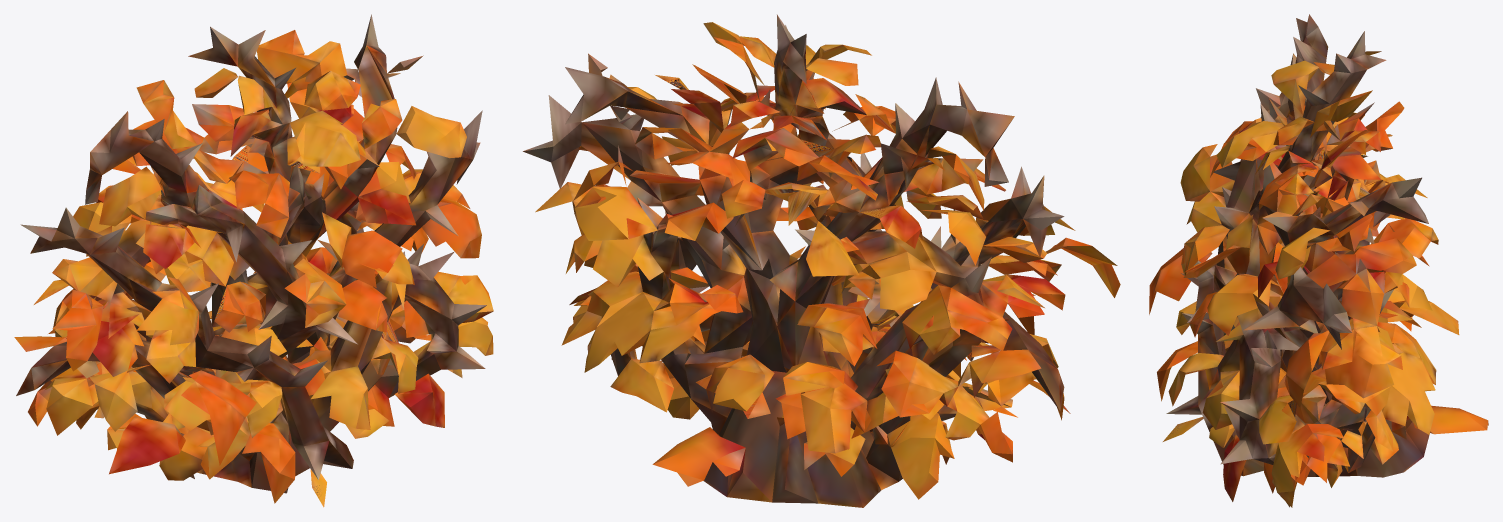
Rendered from thorn-bush.low.glb.
3 views of the same model, side by side, from view 1: azimuth 30°, elevation 25°; view 2: azimuth 150°, elevation 25°; view 3: azimuth 270°, elevation 25° (orthographic). The views are drawn at different scales.
Visible parts, largest first — view 1: output_unwrapped; view 2: output_unwrapped; view 3: output_unwrapped.
Part boxes in pixels (x1=…): output_unwrapped: x1=14, y1=14, x2=493, y2=507; output_unwrapped: x1=523, y1=14, x2=1120, y2=507; output_unwrapped: x1=1149, y1=14, x2=1488, y2=507.
Bounding box in the file's own units: 1.89 × 1.52 × 1.15.
1 material, 1 textured.
